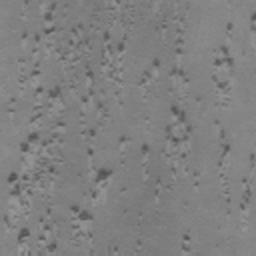Oxide scale of temperature system: (0, 1, 235, 252), (217, 128, 256, 210), (94, 167, 114, 183)
